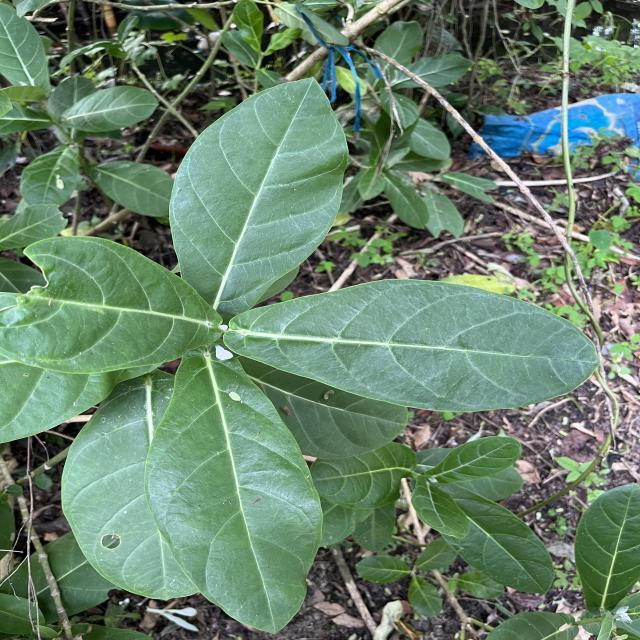Calotropis gigantea: (221, 276, 604, 413), (142, 354, 324, 636), (167, 76, 352, 316), (425, 481, 556, 596), (572, 480, 640, 615), (0, 0, 51, 99), (90, 160, 178, 217), (422, 434, 522, 484), (58, 85, 160, 134), (19, 142, 81, 208)
